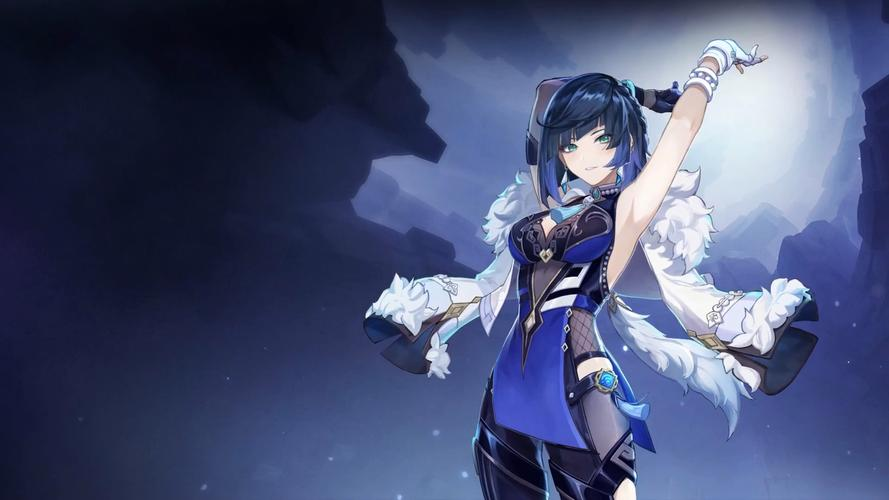夜兰: (474, 37, 769, 500)
